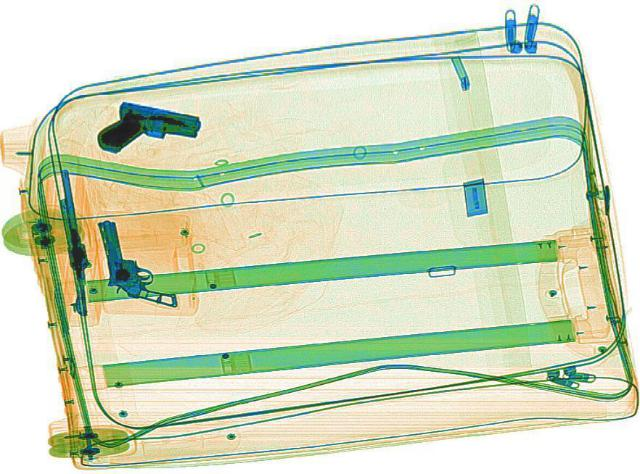Gun: (90, 96, 206, 167), (95, 213, 177, 311), (51, 162, 94, 320)
